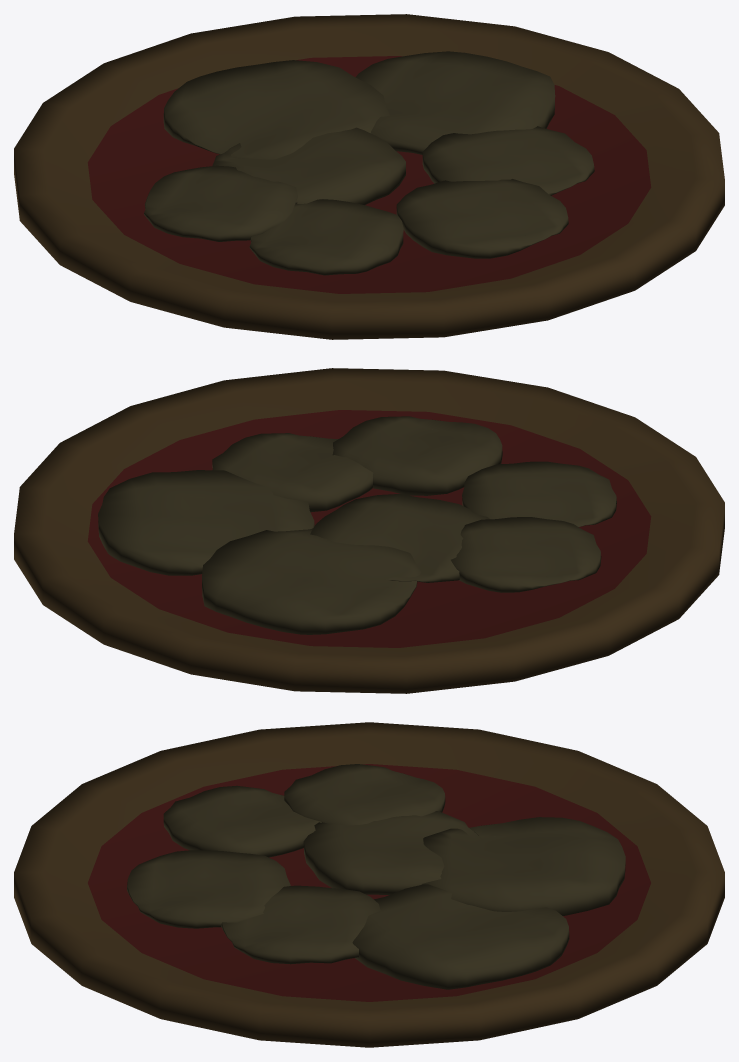
The model's file is BurntPizza(Tomato and Cheese).glb.
The picture shows the model from 3 angles, top to bottom: view 1: azimuth 30°, elevation 25°; view 2: azimuth 150°, elevation 25°; view 3: azimuth 270°, elevation 25°; orthographic projection.
Visible parts, largest first — view 1: Plane.006; view 2: Plane.006; view 3: Plane.006.
Boxes of the visible parts, left/top/right/bottom form: Plane.006: left=14, top=14, right=724, bottom=339; Plane.006: left=14, top=368, right=724, bottom=693; Plane.006: left=14, top=722, right=724, bottom=1047.
Size of the model in its own units: 0.8833 by 0.049 by 0.8833.
